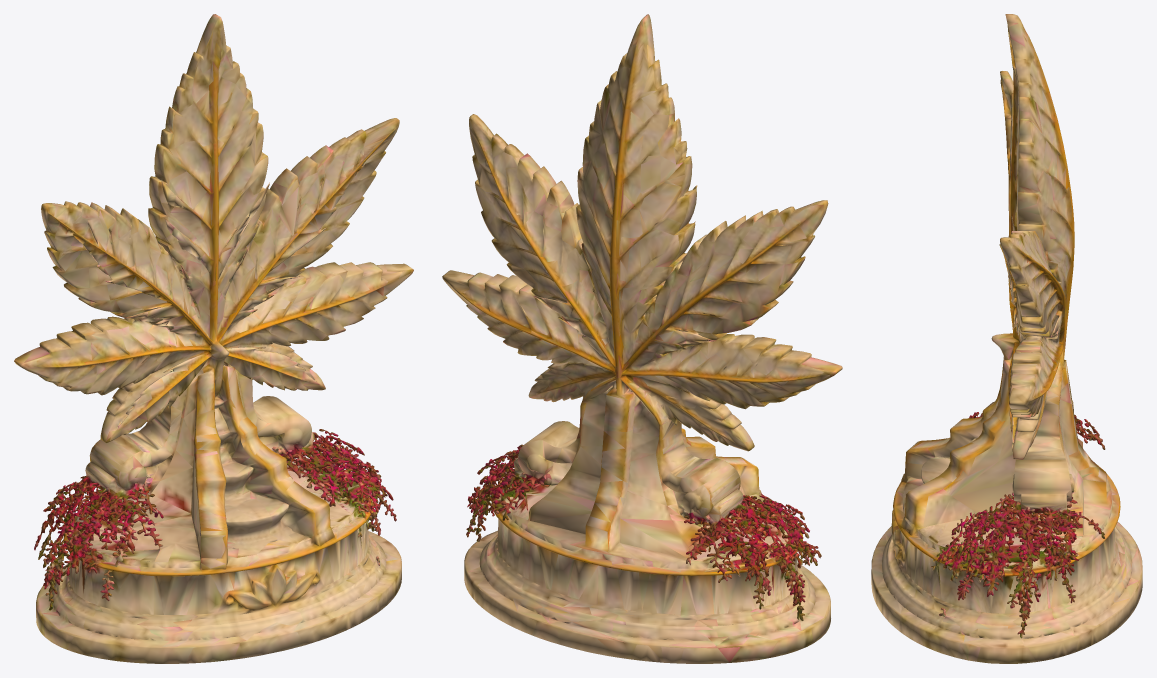
File: esc-hoja.glb
3 renders of one model, left to right at view 1: azimuth 30°, elevation 25°; view 2: azimuth 150°, elevation 25°; view 3: azimuth 270°, elevation 25°, orthographic. The views are drawn at different scales.
Visible parts, largest first — view 1: Mesh_0; view 2: Mesh_0; view 3: Mesh_0.
Boxes of the visible parts, left/top/right/bottom form: Mesh_0: left=14, top=14, right=413, bottom=663; Mesh_0: left=442, top=14, right=842, bottom=663; Mesh_0: left=871, top=14, right=1142, bottom=663.
Bounding box in the file's own units: 1.34 × 1.9 × 0.8217.
1 material, 1 textured.
